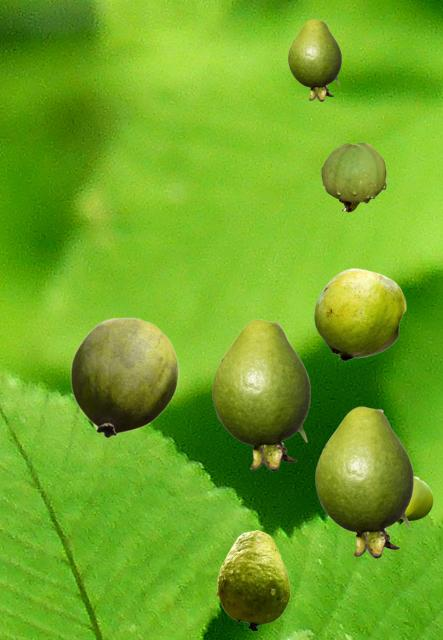guava: (212, 319, 309, 470), (315, 406, 412, 557), (70, 317, 178, 437), (314, 268, 405, 360), (216, 530, 289, 630), (321, 142, 385, 211), (288, 19, 340, 100), (396, 475, 432, 524)
